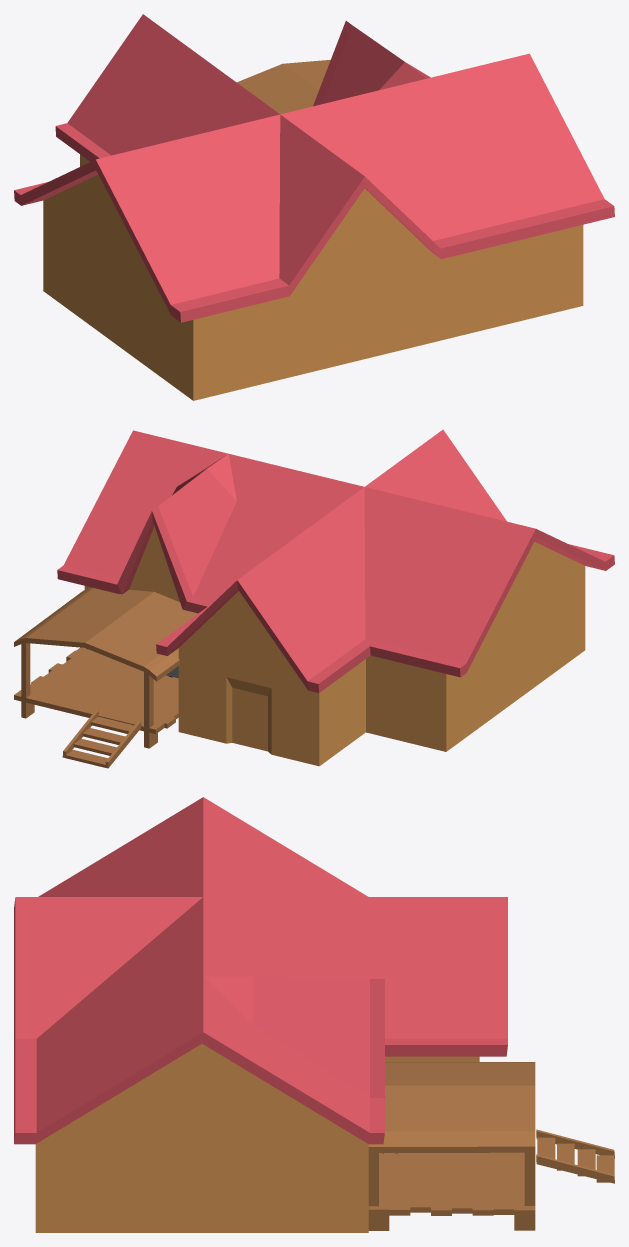
The model's file is House_1.fbx.
3 views of the same model, one above another, from view 1: azimuth 30°, elevation 25°; view 2: azimuth 150°, elevation 25°; view 3: azimuth 270°, elevation 25° (orthographic). The views are drawn at different scales.
Parts seen in each view (by area): view 1: House, Gazibo; view 2: House, Gazibo, PatioStairs; view 3: House, Gazibo, PatioStairs.
Part boxes in pixels (x1=…): House: x1=14, y1=14, x2=614, y2=400; Gazibo: x1=237, y1=60, x2=330, y2=114; House: x1=57, y1=429, x2=614, y2=766; Gazibo: x1=14, y1=587, x2=197, y2=748; PatioStairs: x1=62, y1=710, x2=141, y2=768; House: x1=14, y1=797, x2=507, y2=1232; Gazibo: x1=368, y1=1062, x2=535, y2=1230; PatioStairs: x1=536, y1=1129, x2=614, y2=1183.
Size of the model in its own units: 1002 by 426 by 1082.
